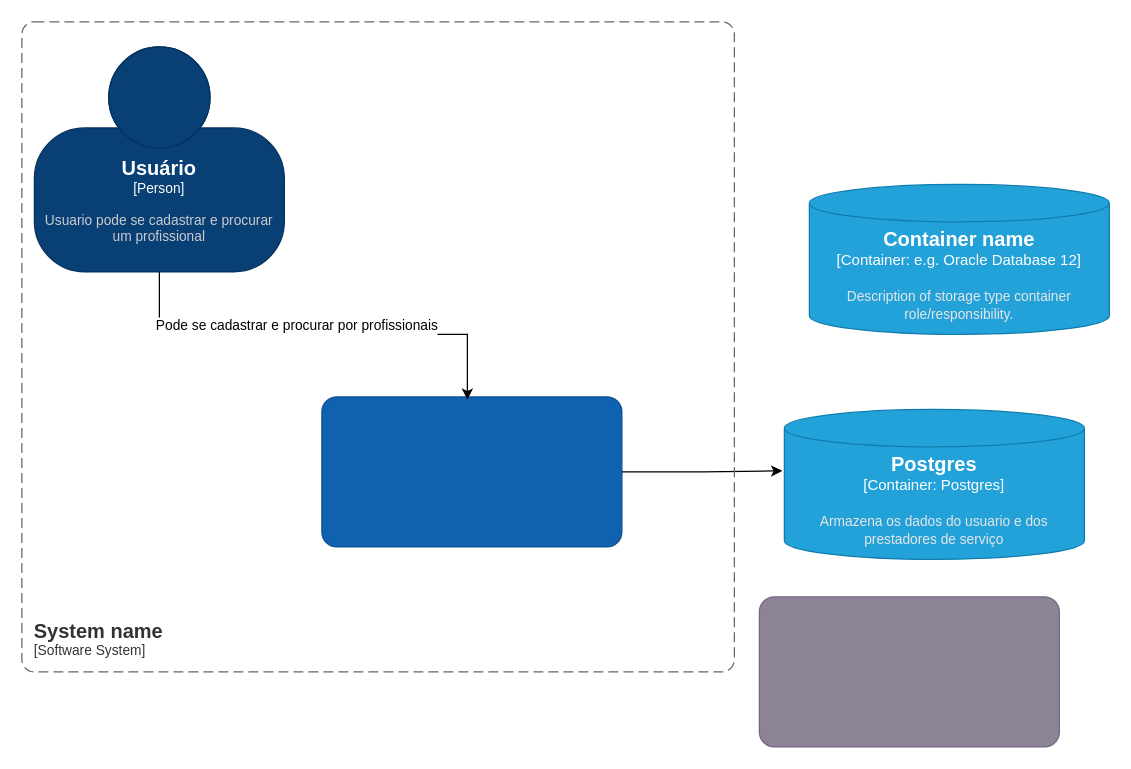
The diagram is 1131 pixels wide and 769 high, and some of its shapes have lost their labels. Each missing label, with the centre of its shape:
"API [Software System] Api responsavel por cadastrar e procurar profissionais" goes at point 471,471.
"External system name [Software System] Description of external software system." goes at point 908,671.
